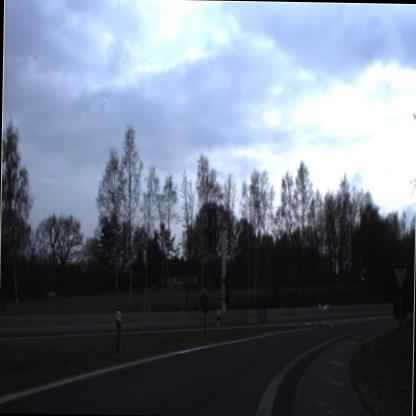other: (388, 261, 410, 294)
